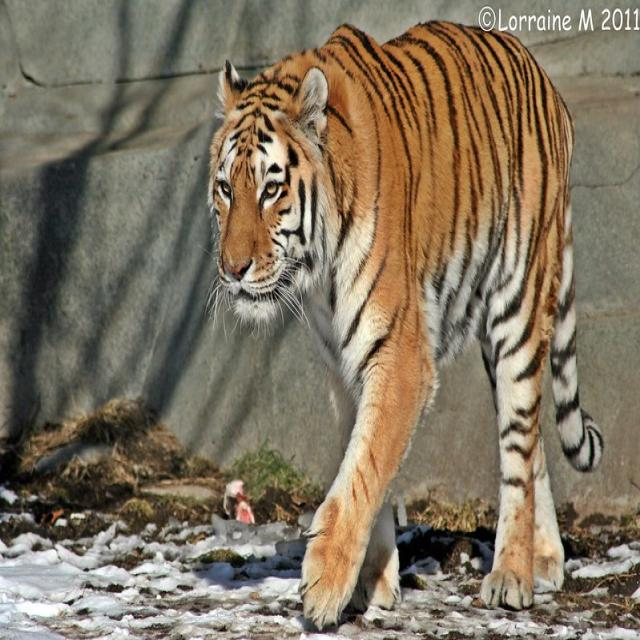Tiger: (200, 16, 609, 634)
